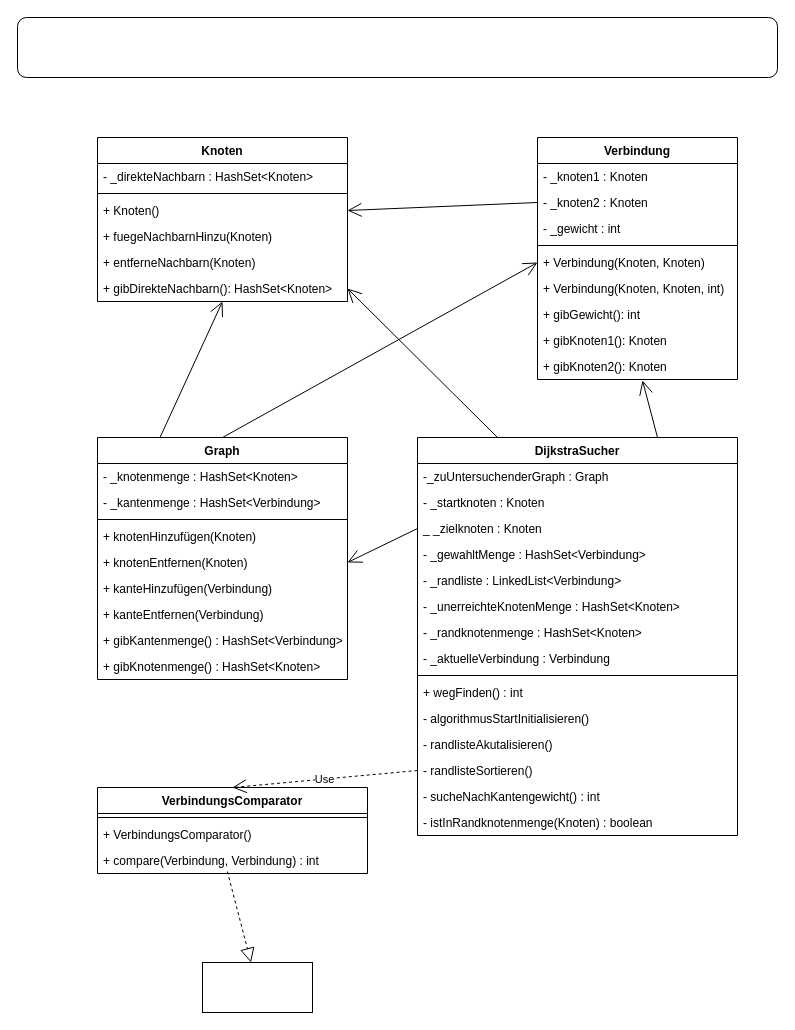
The diagram is 795 pixels wide and 1030 high, and some of its shapes have lost their labels. The centre of each missing label's shape, as x and y in pixels:
Klassendiagramm v1.0: (397,47)
«interface» Comparator: (257,987)
